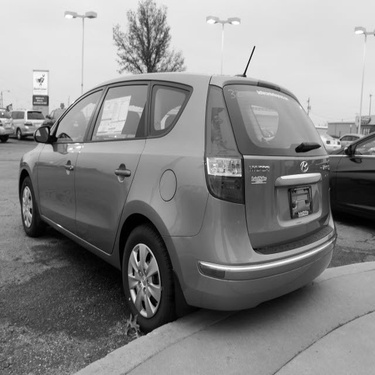car: (13, 66, 339, 333), (331, 129, 372, 231), (41, 105, 83, 146), (12, 102, 43, 139), (337, 128, 368, 152), (314, 131, 342, 155), (1, 106, 18, 140), (251, 126, 276, 146)
